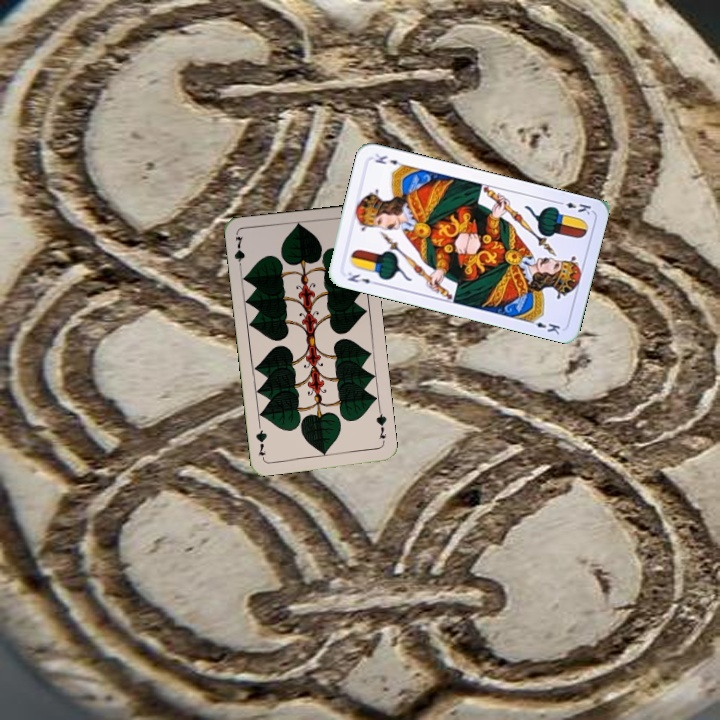EK: (553, 197, 594, 217), (344, 268, 381, 288)
G7: (230, 232, 247, 273), (372, 406, 389, 446)
